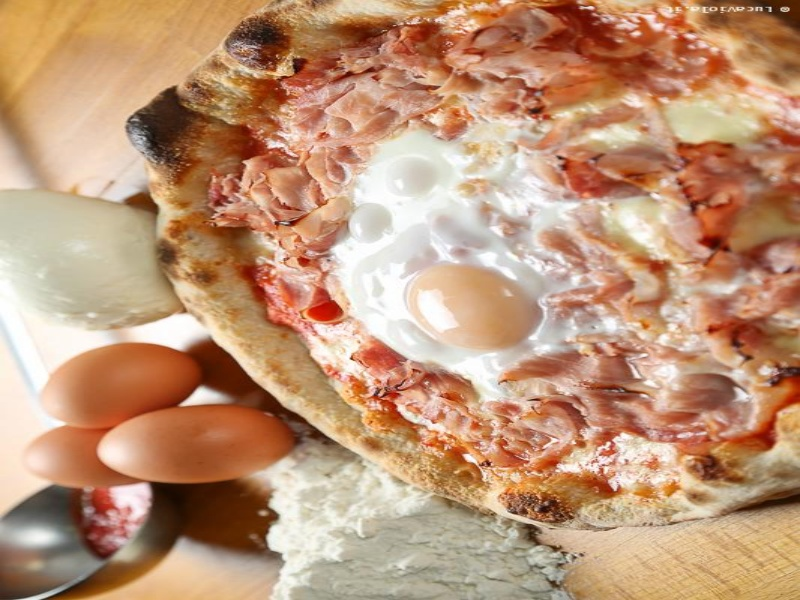oeuf: (393, 246, 546, 368)
